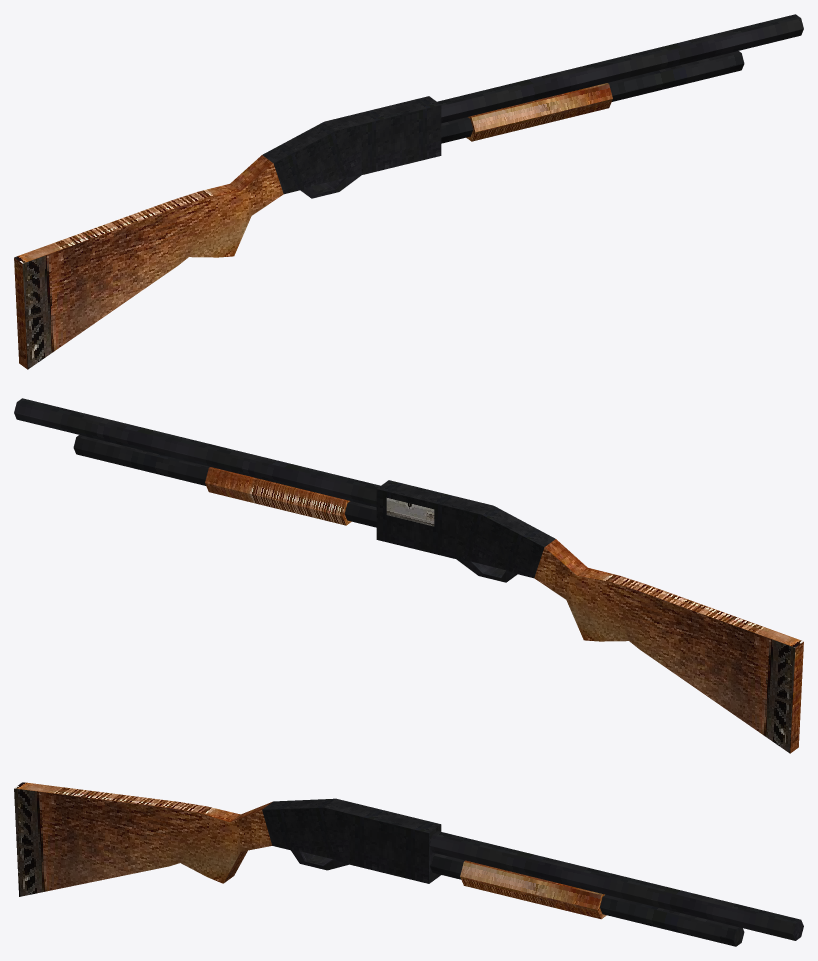
File: shotgun.glb
The picture shows the model from 3 angles, top to bottom: view 1: azimuth 30°, elevation 25°; view 2: azimuth 150°, elevation 25°; view 3: azimuth 330°, elevation 25°; orthographic projection.
Parts seen in each view (by area): view 1: Cylinder.002; view 2: Cylinder.002; view 3: Cylinder.002.
Boxes of the visible parts, left/top/right/bottom form: Cylinder.002: left=14, top=14, right=803, bottom=369; Cylinder.002: left=14, top=398, right=803, bottom=753; Cylinder.002: left=14, top=782, right=803, bottom=946.
Bounding box in the file's own units: 4.86 × 0.9858 × 0.1659.
Materials: 1 (1 with a texture image).
